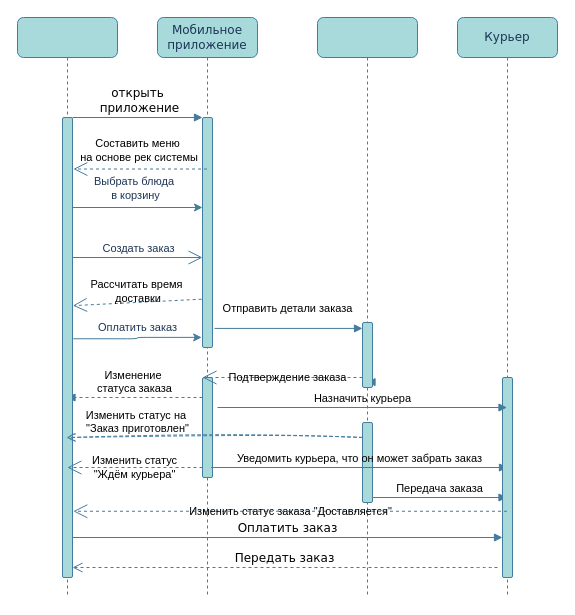
The diagram is 575 pixels wide and 615 high, and some of its shapes have lost their labels. The box of each missing label's shape, as (x1, y1, x2, y2) in pixels:
Клиент: (16, 16, 118, 598)
Ресторан: (316, 16, 418, 598)
